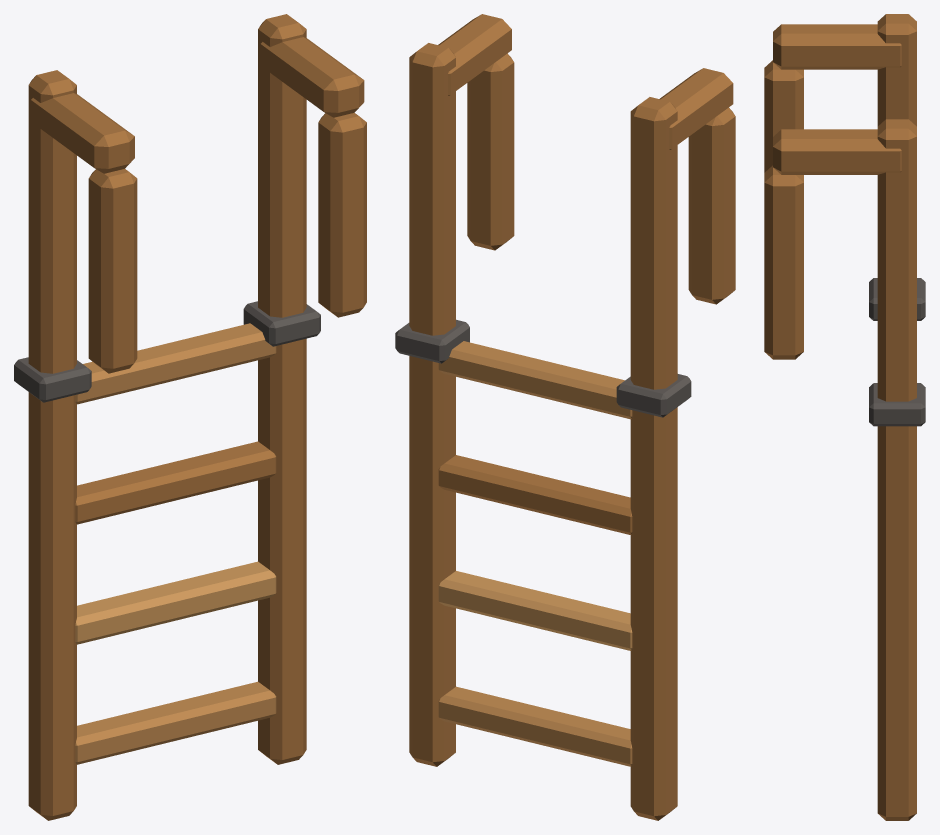
The model's file is dock_ladder.glb.
3 views of the same model, side by side, from view 1: azimuth 30°, elevation 25°; view 2: azimuth 150°, elevation 25°; view 3: azimuth 270°, elevation 25° (orthographic). The views are drawn at different scales.
Visible parts, largest first — view 1: dock_ladder; view 2: dock_ladder; view 3: dock_ladder.
Boxes of the visible parts, <box> form: dock_ladder: <box>14,14,366,820</box>; dock_ladder: <box>395,14,735,820</box>; dock_ladder: <box>764,14,925,820</box>.
Size of the model in its own units: 0.54 by 1.35 by 0.285.
